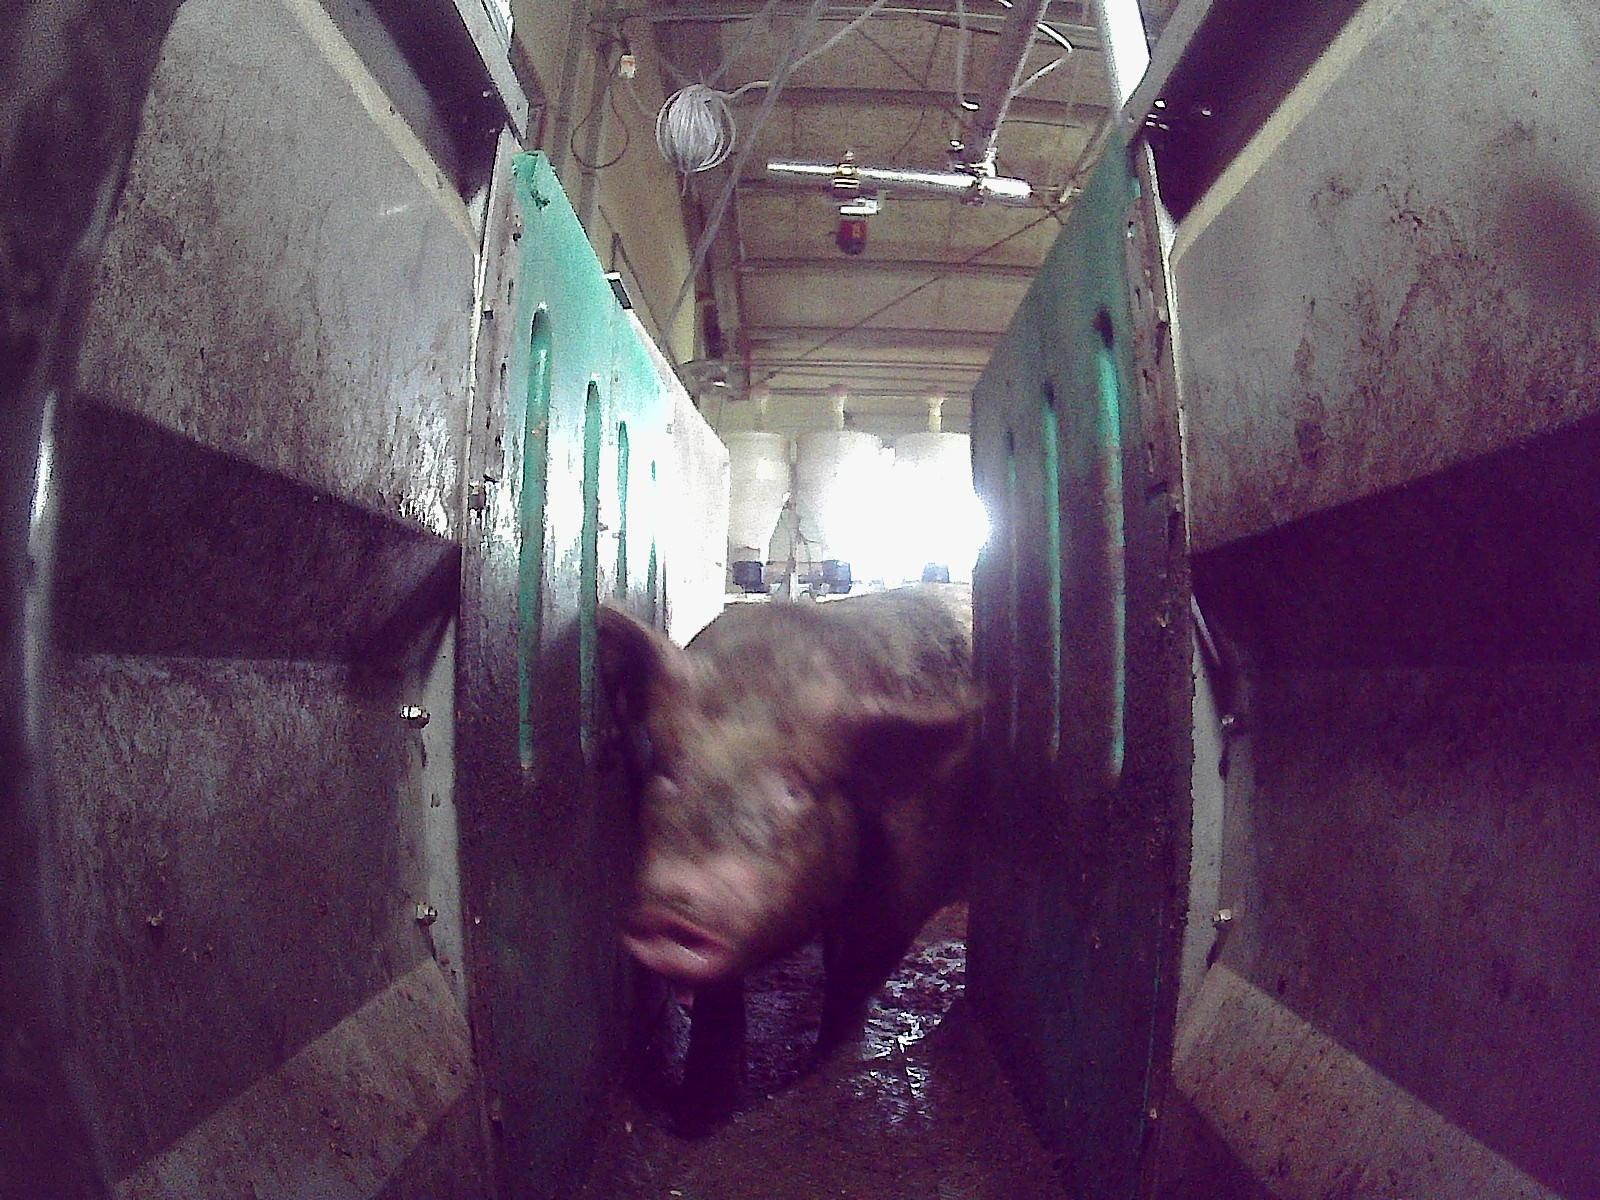Face: (620, 696, 849, 983)
